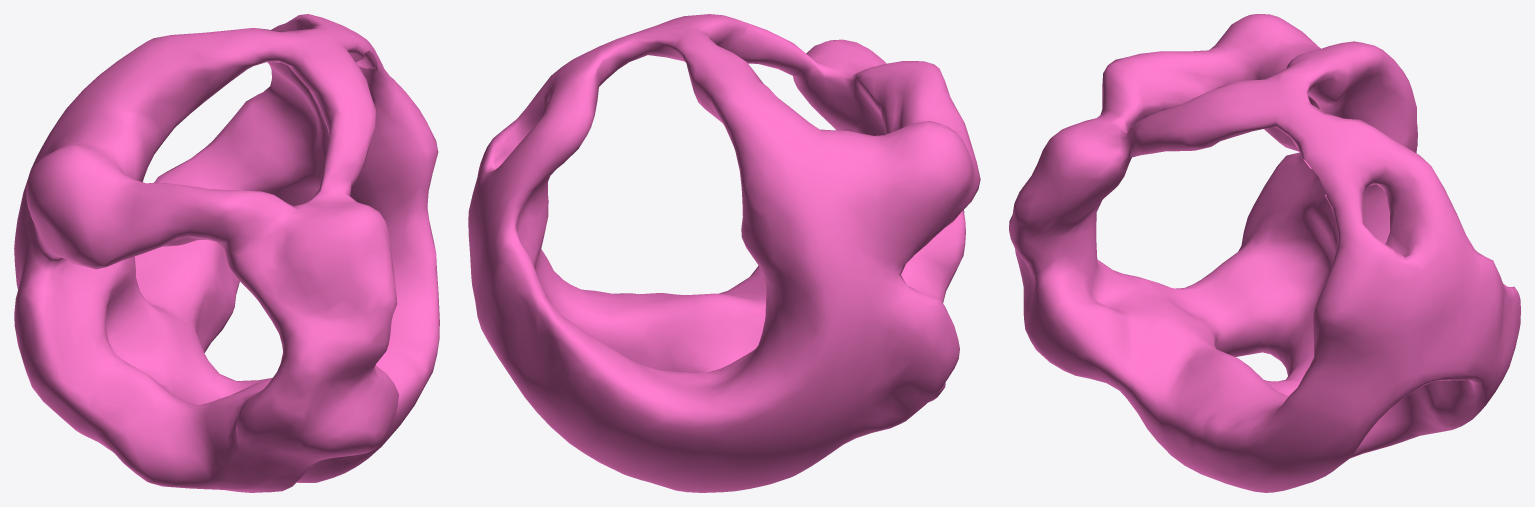
Rendered from orbPink.glb.
3 renders of one model, left to right at view 1: azimuth 30°, elevation 25°; view 2: azimuth 150°, elevation 25°; view 3: azimuth 270°, elevation 25°, orthographic. The views are drawn at different scales.
Visible parts, largest first — view 1: try2_2; view 2: try2_2; view 3: try2_2.
Boxes of the visible parts, x1=… form: try2_2: x1=14, y1=14, x2=439, y2=492; try2_2: x1=468, y1=14, x2=980, y2=492; try2_2: x1=1009, y1=14, x2=1520, y2=492.
Size of the model in its own units: 3.14 by 2.92 by 3.29.
